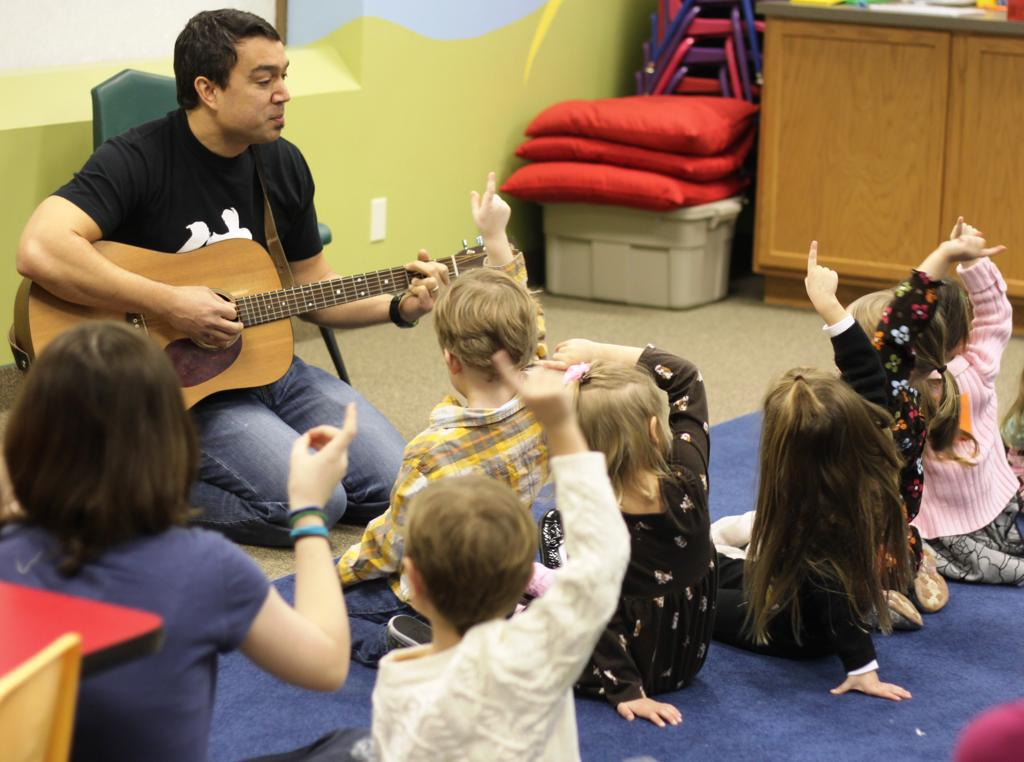face: (215, 43, 291, 145)
